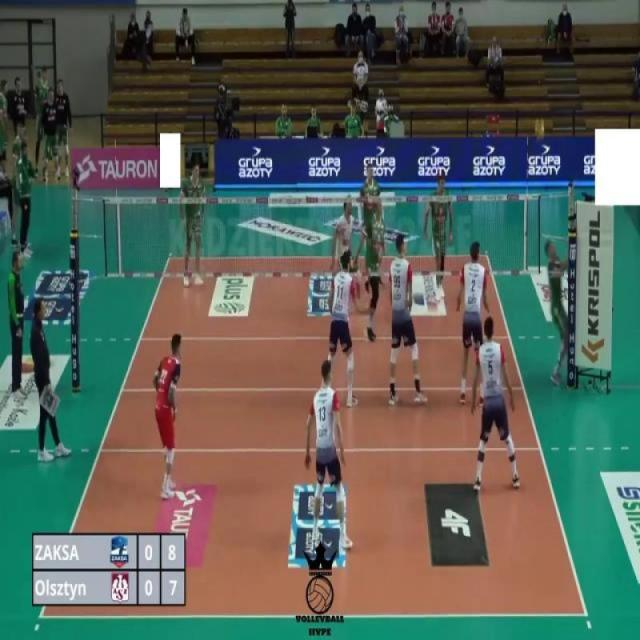volleyball: (534, 116, 546, 142)
